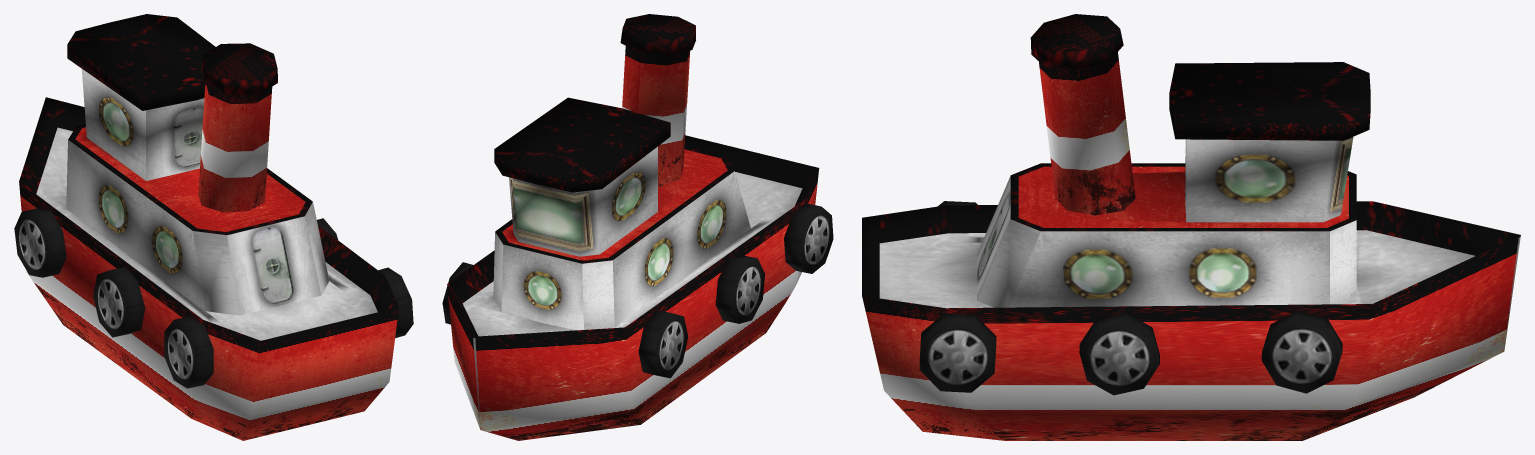
Rendered from tugboat.glb.
3 renders of one model, left to right at view 1: azimuth 30°, elevation 25°; view 2: azimuth 150°, elevation 25°; view 3: azimuth 270°, elevation 25°, orthographic. The views are drawn at different scales.
Parts seen in each view (by area): view 1: tugboat; view 2: tugboat; view 3: tugboat.
Part boxes in pixels (x1,y1,x2,y2): tugboat: (14,14,413,440); tugboat: (442,14,833,440); tugboat: (862,14,1520,440).
Bounding box in the file's own units: 2.4 × 3.36 × 5.42.
1 material, 1 textured.
